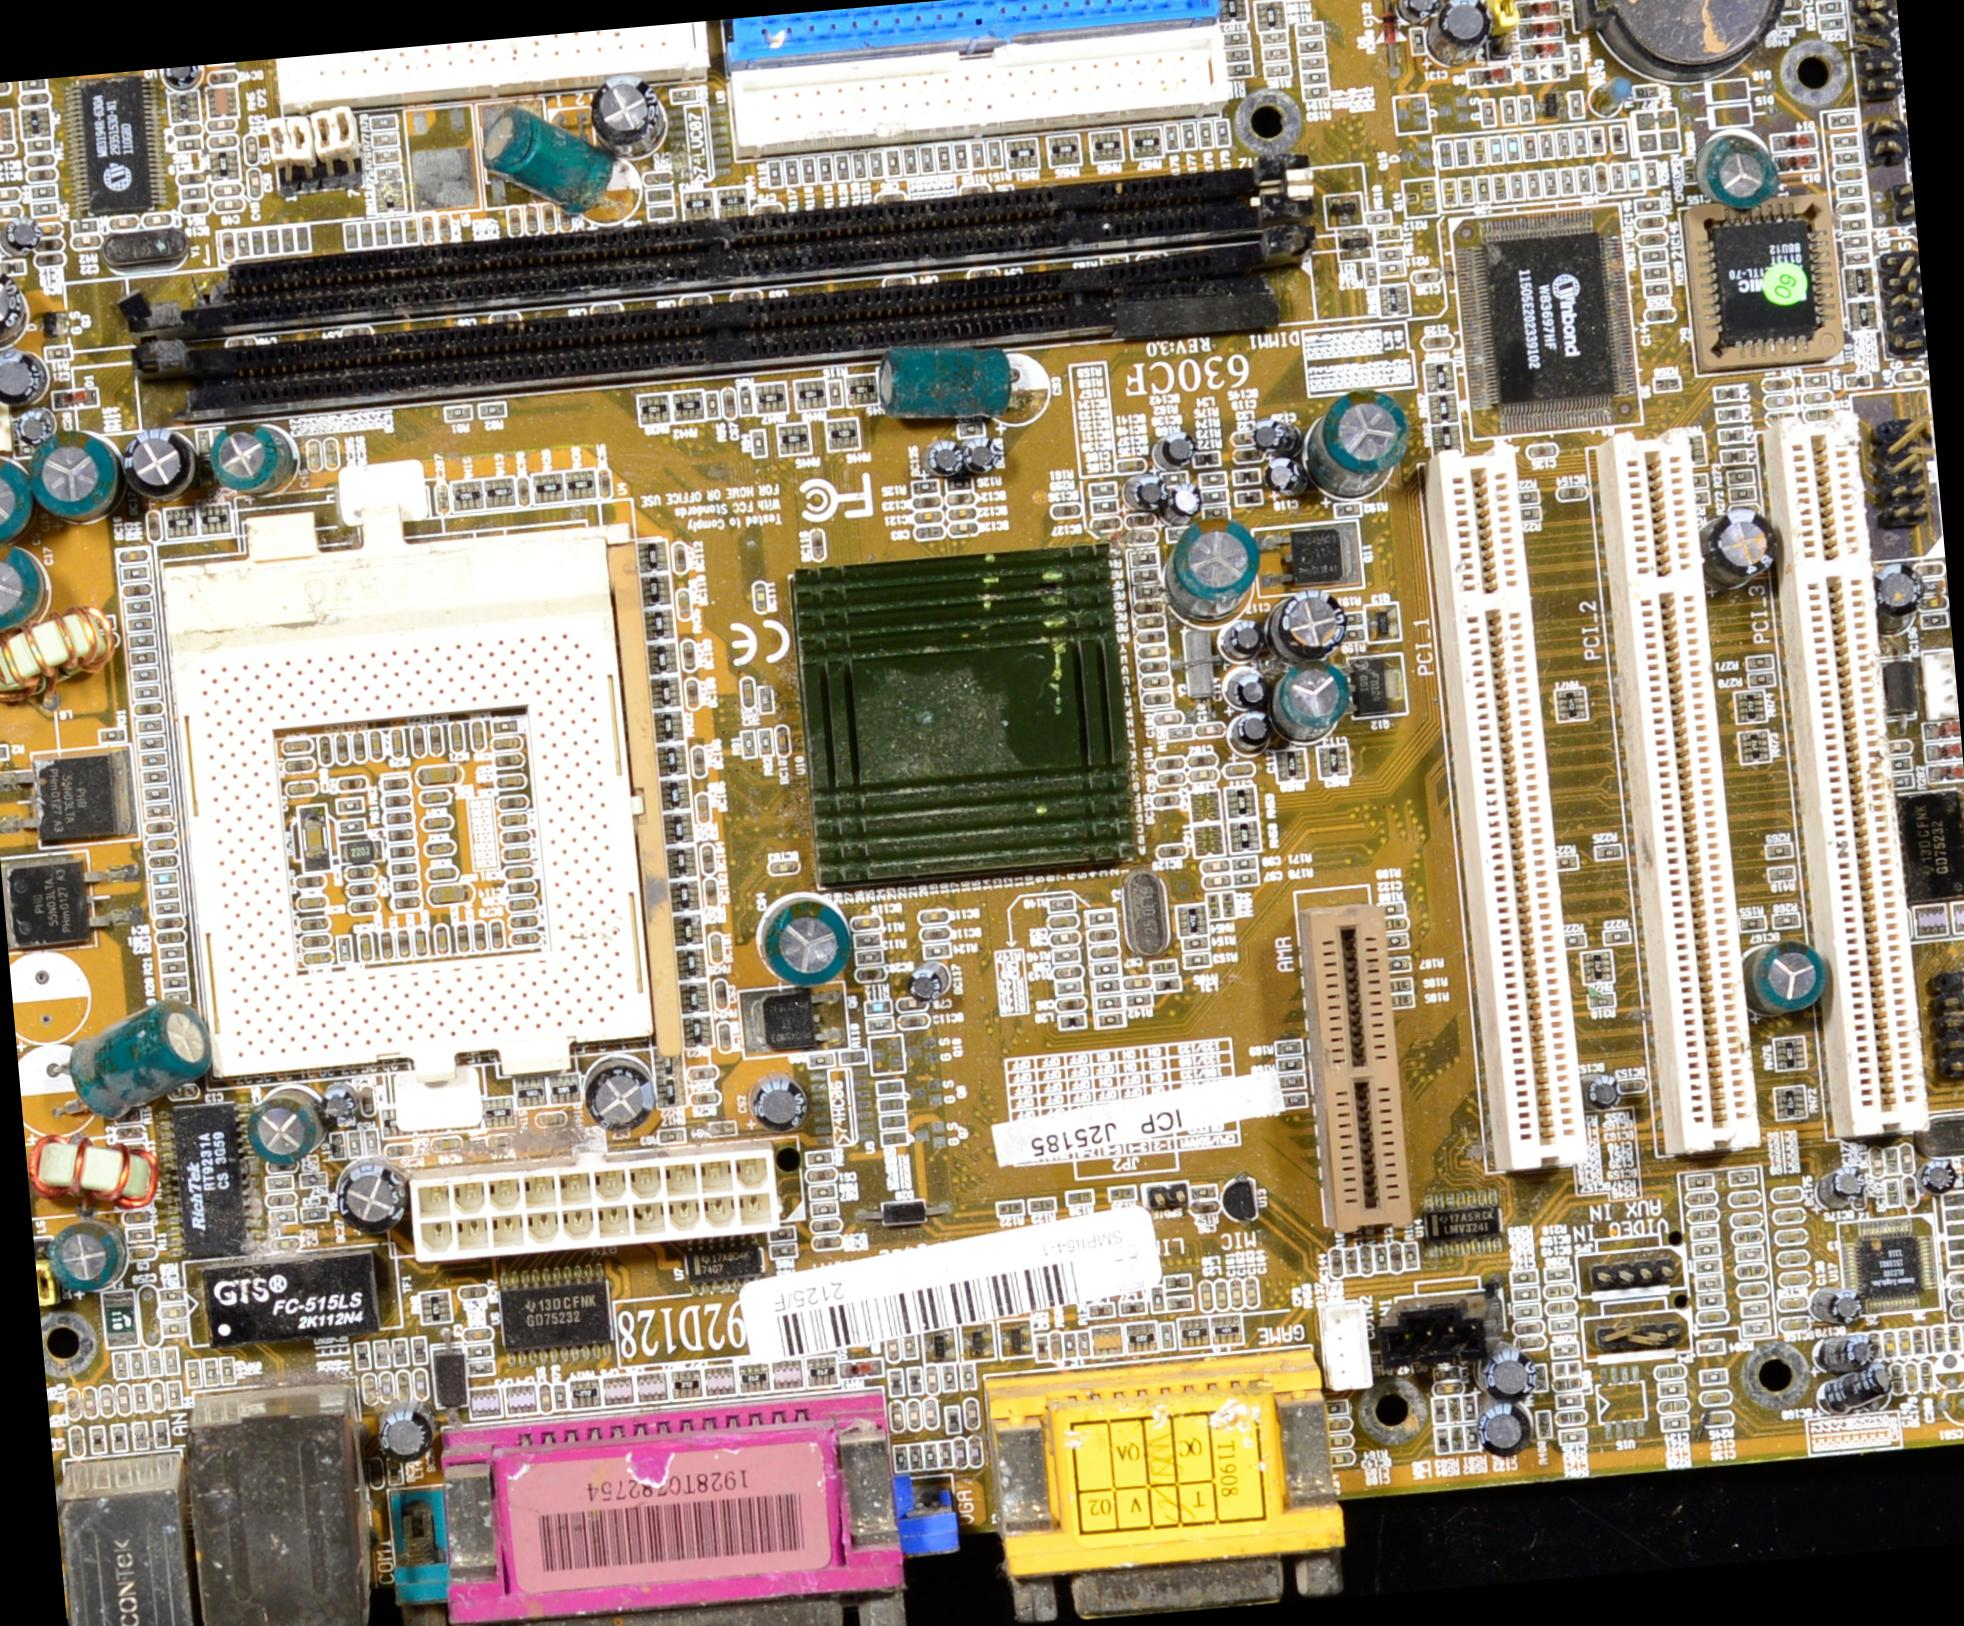Capacitor Jumper: (721, 390, 734, 419), (150, 1380, 163, 1407), (1421, 333, 1445, 347), (902, 1000, 933, 1011), (465, 1328, 491, 1341), (271, 1238, 300, 1249), (1411, 269, 1435, 282), (160, 933, 188, 944), (65, 1391, 80, 1412), (83, 1391, 96, 1414), (806, 1171, 835, 1181), (1698, 1416, 1727, 1425), (923, 1367, 936, 1388), (892, 1401, 902, 1429), (1920, 1362, 1930, 1390), (341, 778, 367, 788), (272, 1194, 294, 1205), (127, 1212, 148, 1223), (718, 982, 728, 1006), (148, 215, 173, 225), (744, 682, 754, 706), (289, 783, 313, 793), (101, 1388, 111, 1411), (909, 1404, 918, 1427), (1949, 1329, 1961, 1349), (956, 1442, 966, 1465), (1651, 310, 1670, 321), (913, 527, 936, 537), (148, 855, 171, 864), (1191, 770, 1214, 780), (542, 1381, 550, 1407), (1243, 1280, 1253, 1301), (1781, 1272, 1803, 1282), (966, 1401, 975, 1422), (248, 171, 258, 192), (1142, 618, 1163, 628), (318, 739, 328, 760), (887, 1339, 899, 1357), (1090, 930, 1114, 938), (1391, 1244, 1400, 1269), (1057, 967, 1077, 977), (1060, 996, 1080, 1006), (129, 1246, 148, 1256), (1437, 1380, 1457, 1390), (139, 705, 158, 714), (1189, 1204, 1212, 1212), (1362, 1248, 1370, 1270), (119, 1390, 127, 1412), (928, 1403, 936, 1425), (246, 139, 254, 161), (1664, 1401, 1682, 1411), (0, 191, 18, 201), (124, 587, 145, 595), (1215, 1285, 1223, 1305), (1232, 1282, 1238, 1306), (1933, 1329, 1941, 1349), (1770, 398, 1789, 406), (1240, 453, 1259, 462), (1894, 1368, 1900, 1391), (1659, 1370, 1677, 1378), (1331, 1437, 1349, 1445), (78, 235, 96, 243), (1533, 447, 1551, 455), (24, 95, 42, 103), (1129, 977, 1143, 987), (1333, 1455, 1347, 1465), (1052, 918, 1073, 925), (506, 882, 533, 887), (116, 217, 132, 225), (1768, 378, 1785, 387), (1891, 742, 1907, 750), (1202, 1287, 1209, 1306), (0, 209, 20, 215), (148, 824, 168, 830), (512, 902, 532, 908), (1519, 1323, 1537, 1329), (1915, 1331, 1922, 1349), (1558, 1380, 1576, 1386), (1556, 1416, 1574, 1422), (1096, 948, 1112, 954), (1809, 395, 1825, 401), (1160, 762, 1176, 768), (1209, 864, 1223, 871), (1710, 1393, 1719, 1403), (1775, 413, 1789, 419), (1163, 714, 1178, 721), (1191, 757, 1205, 763), (1232, 765, 1246, 771), (0, 82, 8, 93), (217, 186, 235, 191), (217, 202, 235, 207), (1204, 726, 1217, 732), (0, 144, 10, 152), (1160, 778, 1176, 783), (1057, 936, 1072, 941), (165, 1311, 179, 1316), (1520, 1339, 1535, 1344), (969, 1445, 974, 1460), (1809, 413, 1824, 418), (1145, 649, 1160, 654), (1786, 0, 1796, 7), (217, 121, 230, 124), (1212, 879, 1222, 882), (1390, 923, 1400, 926)
Connector: (1434, 453, 1573, 1153), (1630, 439, 1752, 1140), (1803, 431, 1897, 1104), (1316, 912, 1395, 1207)
IC: (804, 555, 1117, 873), (1465, 220, 1623, 426), (175, 1106, 238, 1251), (90, 83, 150, 204), (1899, 789, 1962, 899), (499, 1287, 592, 1347), (1858, 1236, 1918, 1298), (680, 1241, 760, 1277), (1432, 1207, 1489, 1236), (1223, 1179, 1251, 1218)
Resistor Jumper: (444, 404, 468, 421), (1497, 96, 1514, 119), (1163, 726, 1189, 739), (1566, 47, 1581, 70), (759, 683, 772, 708), (272, 1212, 295, 1225), (1731, 1171, 1754, 1184), (1696, 1243, 1719, 1256), (186, 1362, 197, 1386), (100, 729, 124, 740), (168, 1383, 181, 1404), (1747, 1319, 1768, 1332), (1729, 468, 1750, 481), (266, 1176, 289, 1187), (139, 739, 161, 750), (744, 732, 755, 755), (1070, 1192, 1090, 1205), (1628, 163, 1641, 183), (915, 479, 935, 493), (365, 1132, 377, 1153), (944, 1367, 956, 1388), (966, 1367, 977, 1388), (1524, 137, 1535, 158), (127, 1230, 152, 1239), (1090, 913, 1109, 925), (1274, 1041, 1297, 1050), (1297, 21, 1320, 31), (1303, 57, 1326, 67), (1573, 91, 1582, 114), (987, 144, 998, 163), (1483, 103, 1494, 122), (1643, 165, 1652, 188), (475, 404, 498, 414), (706, 1124, 732, 1132), (24, 142, 51, 150), (674, 88, 695, 98), (1537, 1414, 1546, 1435), (856, 155, 866, 176), (786, 163, 796, 184), (1528, 175, 1538, 196), (1150, 1288, 1161, 1306), (904, 1337, 915, 1355), (651, 189, 669, 201), (1563, 175, 1574, 192), (139, 721, 157, 732), (176, 139, 201, 147), (122, 568, 147, 576), (925, 946, 944, 956), (1775, 915, 1794, 925), (300, 1174, 320, 1184), (1029, 1199, 1049, 1208), (1698, 1261, 1718, 1270), (1065, 1334, 1075, 1354), (869, 157, 879, 176), (838, 158, 848, 178), (1543, 135, 1553, 155), (1581, 171, 1590, 191), (134, 669, 153, 678), (759, 731, 768, 750), (129, 1355, 140, 1372), (1517, 1308, 1540, 1316), (1267, 64, 1284, 75), (1486, 139, 1497, 155), (1382, 263, 1404, 271), (1845, 256, 1868, 264), (127, 620, 150, 628), (338, 939, 347, 957), (1741, 920, 1758, 930), (148, 1354, 158, 1372), (470, 1347, 488, 1357), (923, 150, 933, 168), (1512, 176, 1522, 194), (144, 773, 161, 783), (338, 799, 356, 809), (1347, 1249, 1356, 1270), (137, 1385, 145, 1406), (1819, 5, 1840, 13), (1613, 166, 1621, 188), (1643, 285, 1664, 294), (830, 382, 838, 403), (1845, 377, 1866, 385), (124, 600, 145, 608), (1889, 1179, 1897, 1199), (1943, 1194, 1962, 1202), (1266, 46, 1285, 54), (894, 1448, 904, 1465), (940, 1445, 949, 1461), (34, 204, 54, 212), (1522, 96, 1530, 116), (907, 152, 915, 171), (346, 227, 354, 246), (1455, 144, 1463, 163), (1442, 145, 1450, 165), (1845, 238, 1864, 246), (754, 432, 762, 452), (948, 479, 964, 489), (1731, 491, 1750, 499), (142, 757, 158, 767), (148, 789, 165, 799), (148, 806, 168, 814), (1765, 845, 1788, 851), (349, 1133, 356, 1156), (1597, 845, 1615, 853), (1153, 962, 1171, 970), (871, 1021, 889, 1029), (809, 1057, 827, 1065), (809, 1151, 827, 1160), (811, 1189, 829, 1197), (1690, 1178, 1708, 1186), (1088, 1306, 1106, 1314), (470, 1363, 488, 1372), (1700, 1280, 1718, 1288), (1163, 1326, 1171, 1344), (555, 1386, 563, 1404), (1744, 1305, 1762, 1313), (1228, 51, 1246, 59), (1328, 1403, 1346, 1411), (183, 188, 201, 196), (1184, 126, 1192, 144), (889, 153, 897, 171), (822, 160, 830, 178), (238, 236, 246, 254), (1377, 230, 1395, 238), (1646, 269, 1664, 277), (1163, 473, 1181, 481), (1202, 475, 1220, 483), (343, 822, 361, 830), (1054, 900, 1068, 910), (662, 1130, 677, 1140), (1168, 130, 1178, 145), (157, 887, 171, 897), (163, 949, 178, 959), (223, 1362, 230, 1383), (78, 222, 100, 228), (132, 654, 153, 661), (1196, 1187, 1212, 1195), (1227, 34, 1243, 42), (1696, 1230, 1713, 1238), (925, 1448, 933, 1465), (1820, 20, 1837, 28), (1217, 122, 1225, 139), (941, 150, 949, 166), (958, 150, 966, 166), (266, 233, 274, 250), (390, 225, 398, 241), (1561, 135, 1569, 152), (1543, 175, 1551, 191), (1369, 264, 1377, 281), (1137, 555, 1153, 563), (812, 1205, 832, 1212), (1884, 1150, 1891, 1169), (206, 1362, 212, 1381), (1543, 1272, 1569, 1277), (31, 188, 51, 194), (166, 992, 181, 1000), (860, 936, 874, 944), (1002, 1204, 1016, 1212), (776, 1246, 791, 1254), (375, 117, 390, 126), (1669, 1421, 1683, 1429), (1095, 483, 1109, 491), (499, 719, 514, 727), (157, 873, 171, 881), (1059, 983, 1077, 990), (869, 1001, 887, 1008), (1408, 1248, 1414, 1266), (1452, 1399, 1458, 1417), (1453, 1430, 1460, 1448), (652, 209, 670, 215), (1507, 139, 1514, 157), (1091, 501, 1109, 507), (165, 964, 178, 972), (1561, 855, 1574, 863), (1383, 904, 1400, 910), (1398, 993, 1411, 1001), (1279, 1062, 1295, 1068), (773, 1228, 786, 1236), (165, 1290, 178, 1298), (1266, 33, 1282, 39), (168, 1324, 181, 1332), (1949, 1208, 1962, 1217), (1512, 1272, 1528, 1279), (1553, 1321, 1569, 1328), (1705, 1372, 1721, 1378), (1468, 1429, 1475, 1445), (772, 165, 778, 181), (253, 232, 259, 248), (1835, 137, 1851, 144), (1838, 155, 1855, 161), (51, 347, 67, 354), (1644, 254, 1661, 261), (1204, 507, 1217, 515), (1137, 569, 1153, 576), (1137, 587, 1153, 594), (134, 690, 150, 696), (1895, 758, 1909, 767), (1773, 874, 1793, 879), (1186, 956, 1201, 962), (1605, 930, 1620, 936), (1395, 979, 1404, 988), (1101, 1018, 1116, 1024), (1114, 1189, 1129, 1195), (166, 1352, 173, 1367), (1465, 1401, 1471, 1416), (1312, 86, 1326, 93), (804, 161, 811, 176), (1369, 212, 1383, 219), (1638, 201, 1652, 207), (132, 638, 147, 644), (861, 952, 873, 961), (1347, 613, 1359, 621), (1380, 1251, 1385, 1269), (1556, 1347, 1574, 1352), (1202, 124, 1207, 142), (285, 232, 290, 250), (1240, 876, 1253, 882), (166, 979, 179, 985), (1059, 952, 1072, 959), (1390, 959, 1403, 965), (1742, 1251, 1755, 1257), (1519, 1288, 1532, 1295), (1664, 1385, 1677, 1391), (1563, 1396, 1576, 1403), (1576, 134, 1582, 147), (1807, 377, 1820, 383), (1205, 494, 1219, 501), (1520, 491, 1533, 497), (1096, 982, 1112, 987), (1130, 998, 1147, 1003), (305, 1208, 321, 1213), (117, 1357, 122, 1373), (1953, 1239, 1962, 1248), (913, 1447, 918, 1463), (364, 227, 369, 243), (1830, 117, 1847, 122), (1480, 181, 1484, 197), (1188, 941, 1199, 948), (1951, 1226, 1962, 1233), (1305, 46, 1316, 52), (1383, 253, 1395, 259), (1344, 631, 1356, 638), (1281, 1078, 1295, 1083), (1705, 1297, 1719, 1301), (1564, 1434, 1579, 1438), (977, 150, 982, 165), (378, 225, 383, 240), (1750, 659, 1765, 664), (157, 905, 171, 910), (1571, 935, 1579, 943), (1390, 938, 1403, 943), (1289, 1098, 1298, 1104), (378, 137, 391, 142), (380, 152, 393, 157), (1308, 72, 1318, 78), (406, 223, 411, 236), (24, 82, 38, 86), (1925, 582, 1938, 587), (1240, 859, 1253, 864), (1098, 965, 1109, 970), (1590, 998, 1602, 1003), (1754, 677, 1765, 682), (1235, 67, 1243, 73), (1840, 189, 1856, 192), (1524, 507, 1532, 514), (1082, 1334, 1085, 1349), (382, 168, 391, 173), (299, 230, 302, 245), (0, 749, 5, 758), (1894, 776, 1904, 781), (1781, 18, 1794, 21), (1847, 222, 1855, 227), (1103, 1000, 1109, 1005), (1957, 1257, 1962, 1262)
Transistor: (38, 755, 126, 837), (5, 863, 80, 944), (745, 990, 825, 1050), (1271, 530, 1351, 582), (1356, 664, 1398, 708), (1000, 1323, 1023, 1349), (1329, 201, 1357, 222), (1343, 233, 1365, 258), (1369, 607, 1388, 634), (964, 1328, 982, 1352), (1542, 95, 1559, 114), (931, 1336, 946, 1359)
